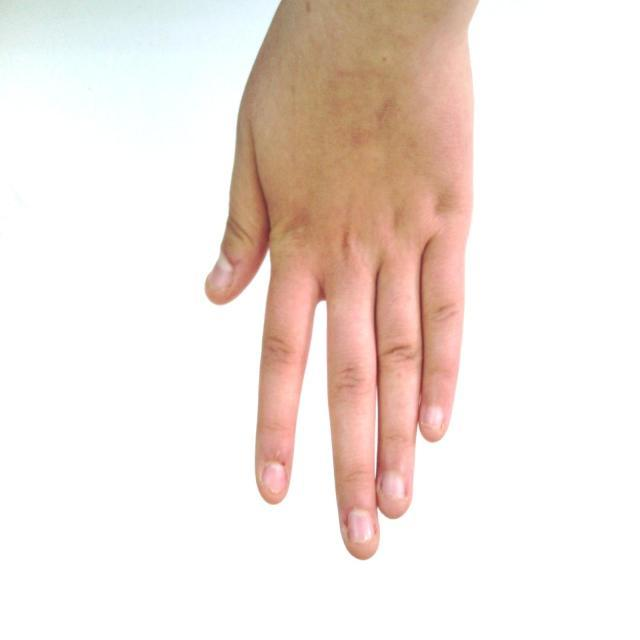Fingernail: (207, 255, 233, 292), (348, 510, 373, 543), (382, 470, 407, 499), (264, 464, 285, 494), (423, 407, 443, 432)
